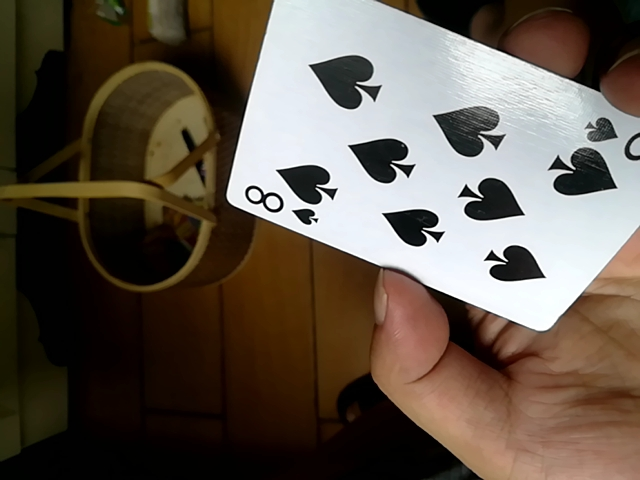ht 8: (221, 1, 640, 339)
